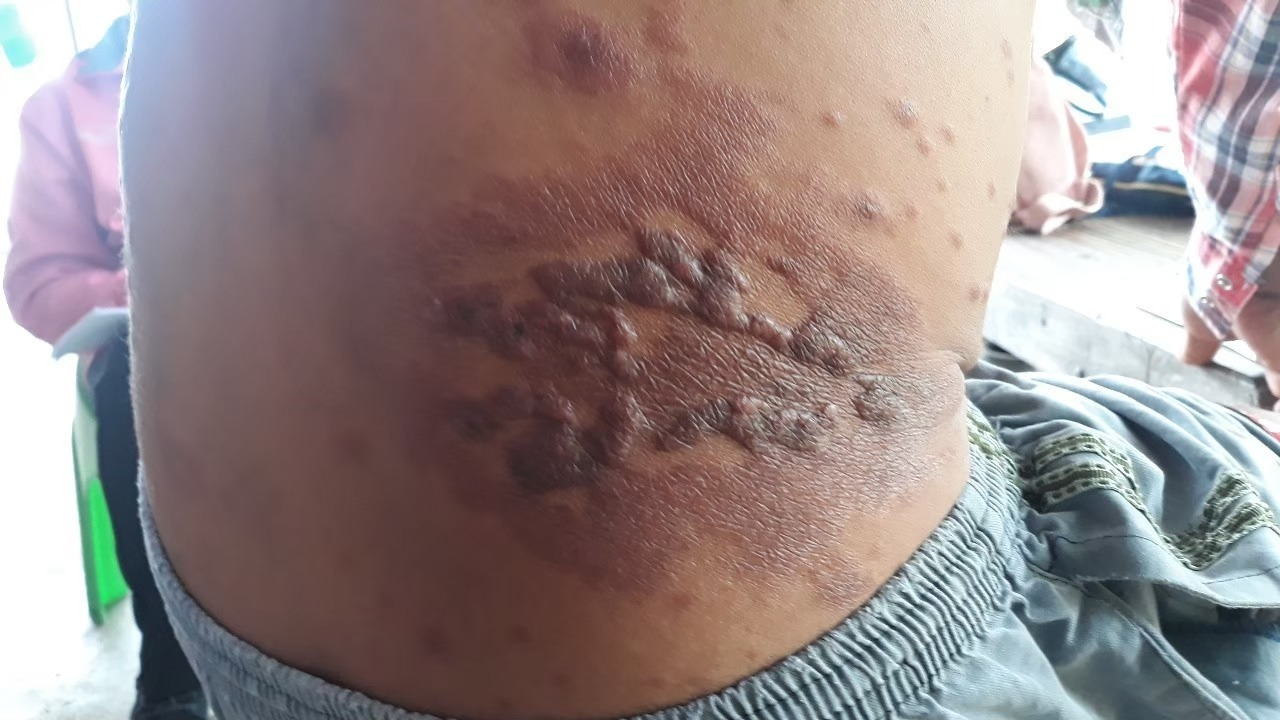Leprosy: (378, 163, 928, 611), (523, 18, 653, 112), (880, 93, 977, 172), (849, 187, 894, 231), (942, 217, 979, 260)
